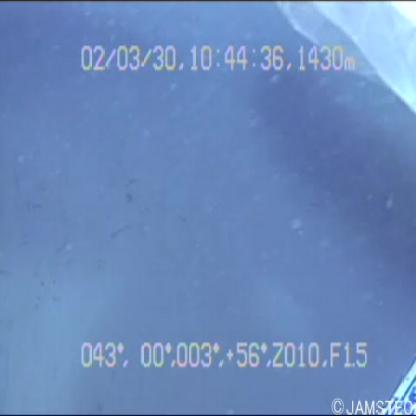Rác: (265, 3, 416, 118)
